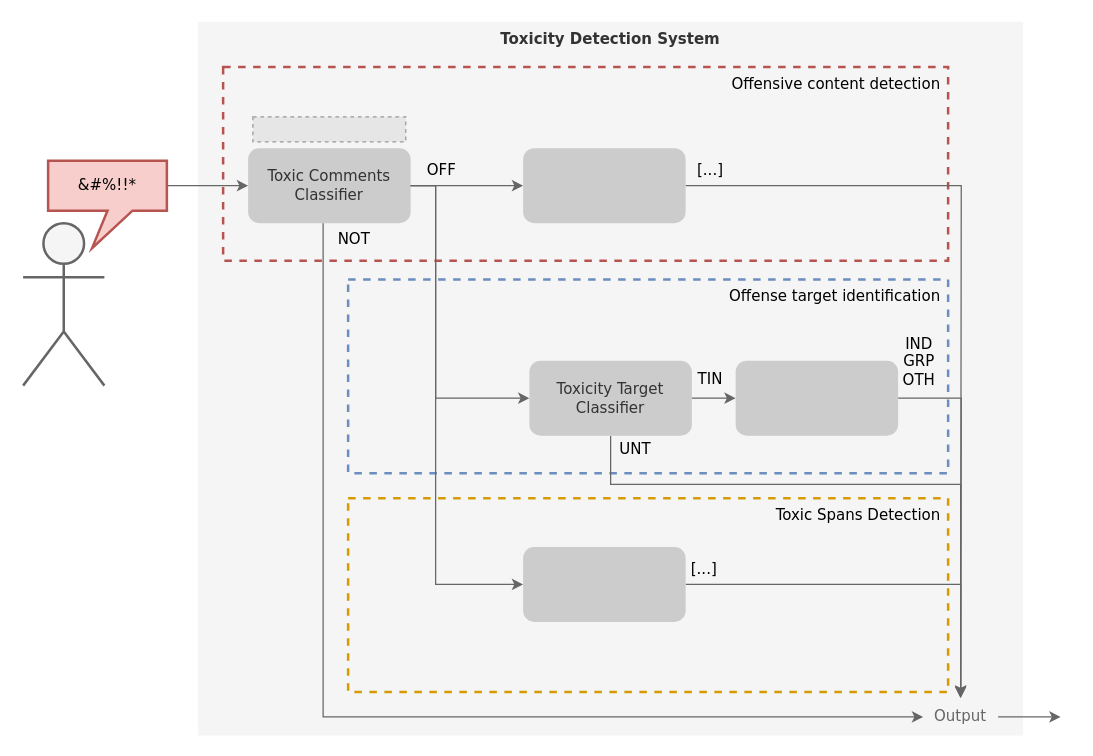
Image size: 1093x756. Some labels were removed from this diagram. Grey dashed boxes stand in for pictures. Each missing label, with the centre of its shape:
Toxic Spans Detector: point (603, 583)
Toxicity Target Type Classifier: point (816, 397)
Toxicity Type Detector: point (603, 185)
User: point (63, 303)
